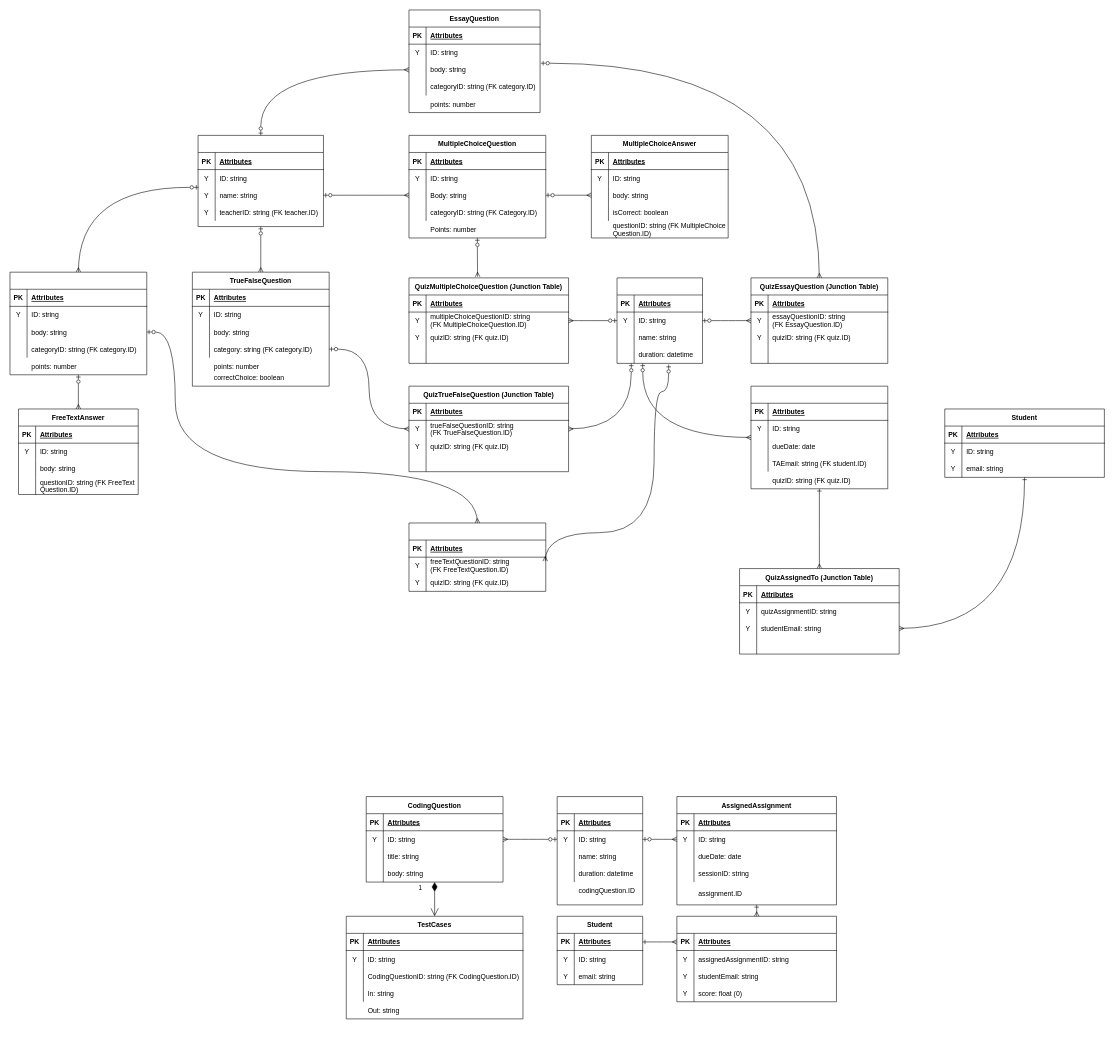
This 1114x1046 diagram has some shape labels left out. Here are the shapes that lost their labels. From the top down, the box of each, then its label:
(198, 135, 323, 227): Category
(9, 272, 147, 375): FreeTextQuestion
(616, 277, 703, 363): Quiz
(750, 386, 888, 489): QuizAssignment
(408, 522, 546, 591): QuizFreeTextQuestion (Junction Table)
(557, 796, 643, 905): Assignment
(676, 916, 836, 1002): AssignmentResult
